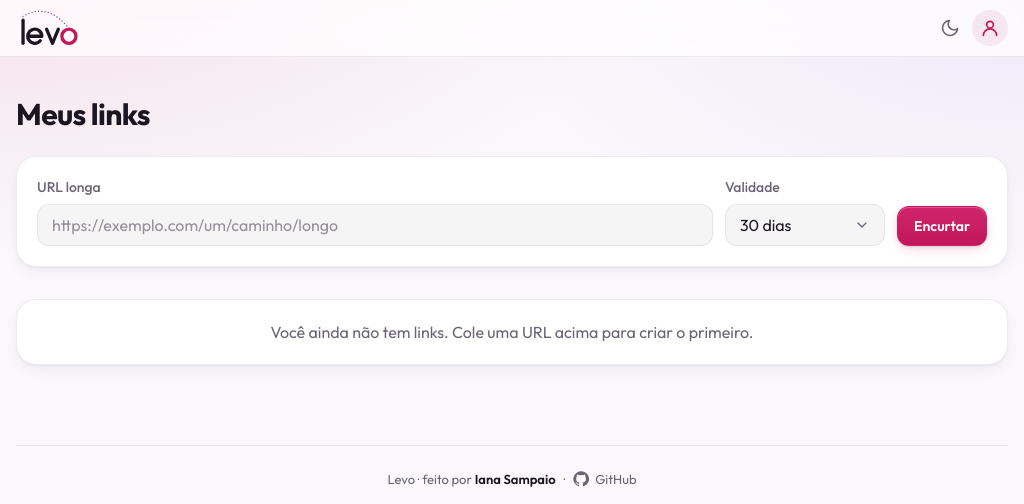
Scenario: menu de perfil › clique fora fecha
Click the button named "Menu da conta" at (990, 28), box [972,10,1008,46]
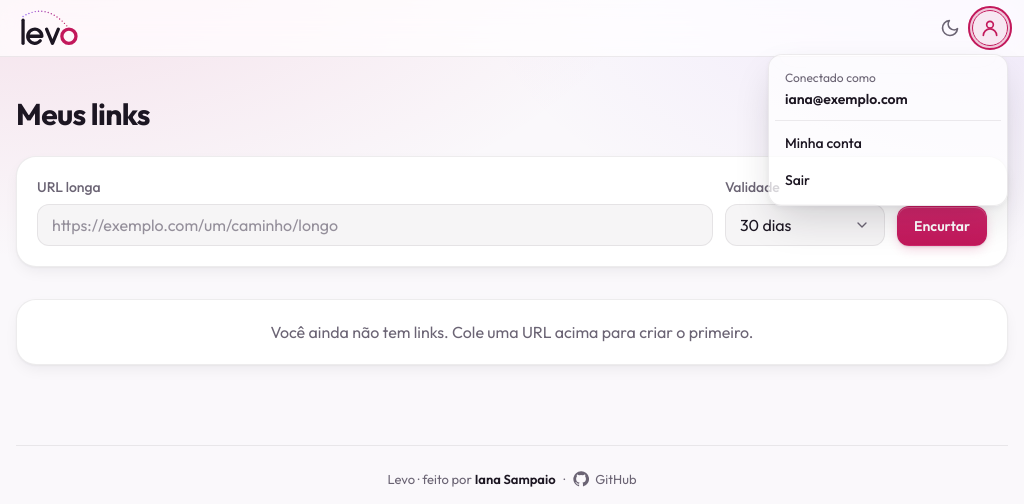
Click the heading "Meus links" at (83, 114), box [16,95,150,133]
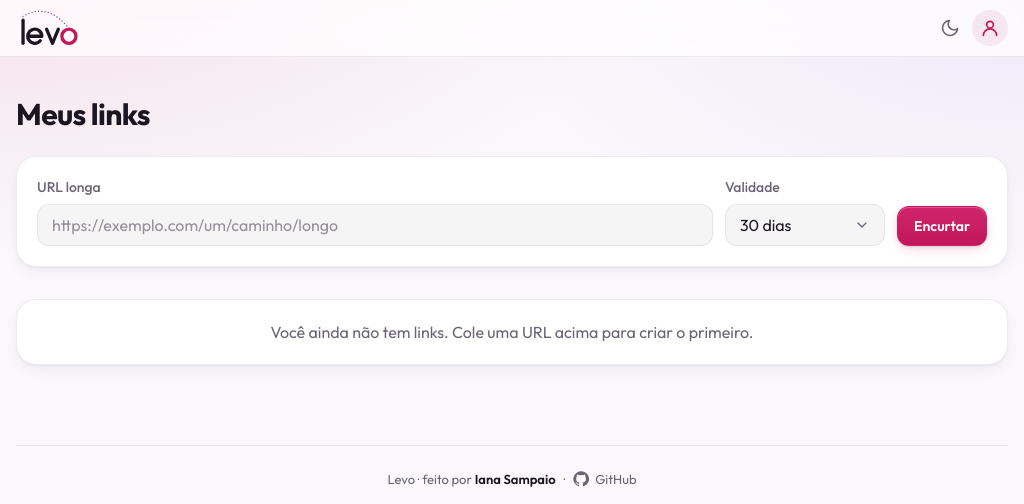
Result: the button named "Menu da conta" is collapsed at [972,10,1008,46]
